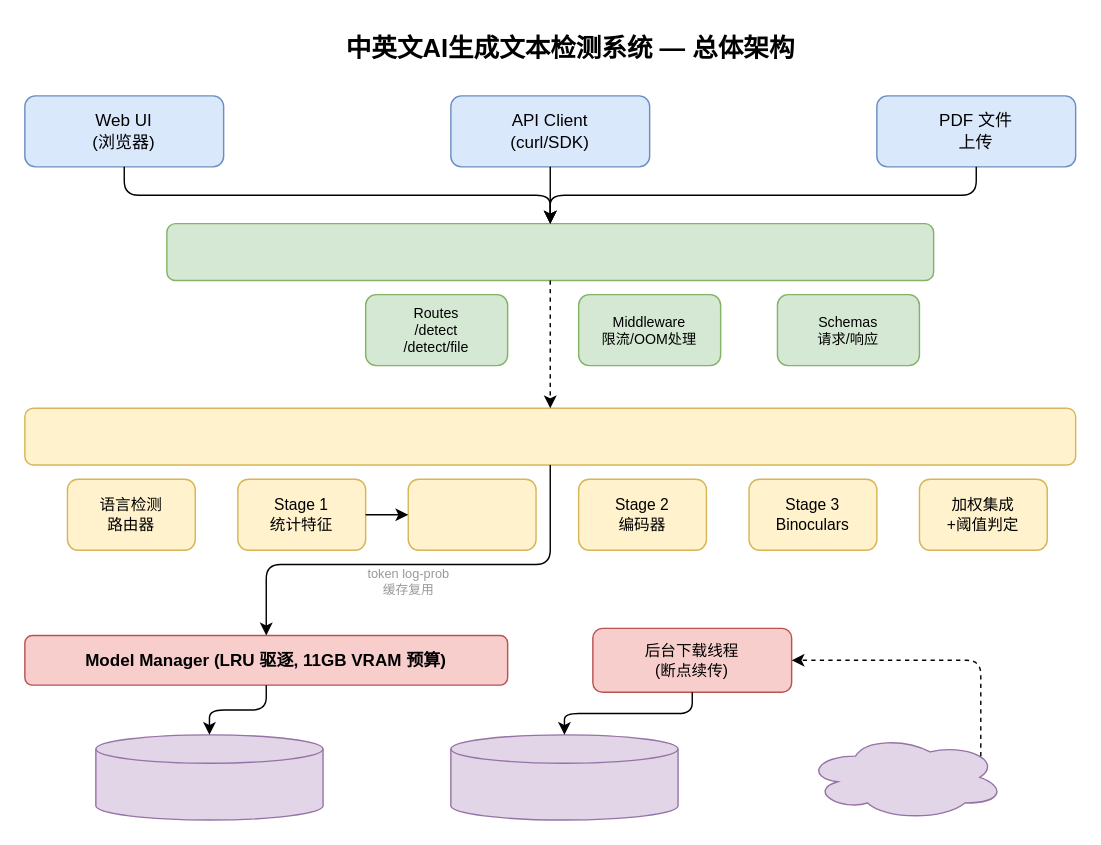
Some shapes in this 1101 by 845 pixel diagram are drawn without their labels. The shapes that lost their labels are listed below. From the top down, each one's centre as x and y in pixels, then its label:
(549,251): FastAPI Server (:8000)
(549,436): 四阶段级联检测管线
(471,514): Stage 1b 语言学特征
(208,776): GPU (RTX 3060 12GB)
(563,776): 磁盘缓存 ~60GB 模型
(904,776): HuggingFace Hub
